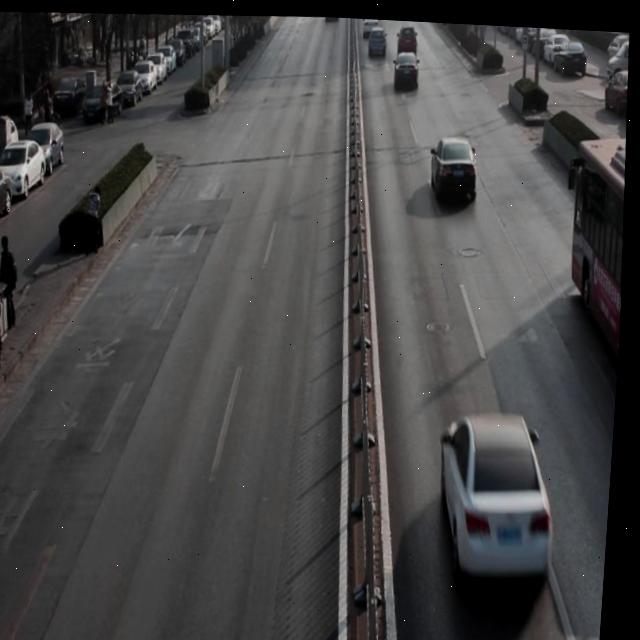car: (438, 403, 569, 594), (428, 125, 483, 201), (392, 46, 421, 90), (366, 21, 388, 55), (396, 20, 419, 48)
van: (562, 132, 634, 411)
